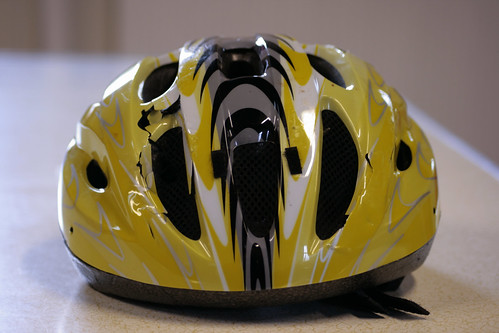helmet: (43, 27, 459, 276)
